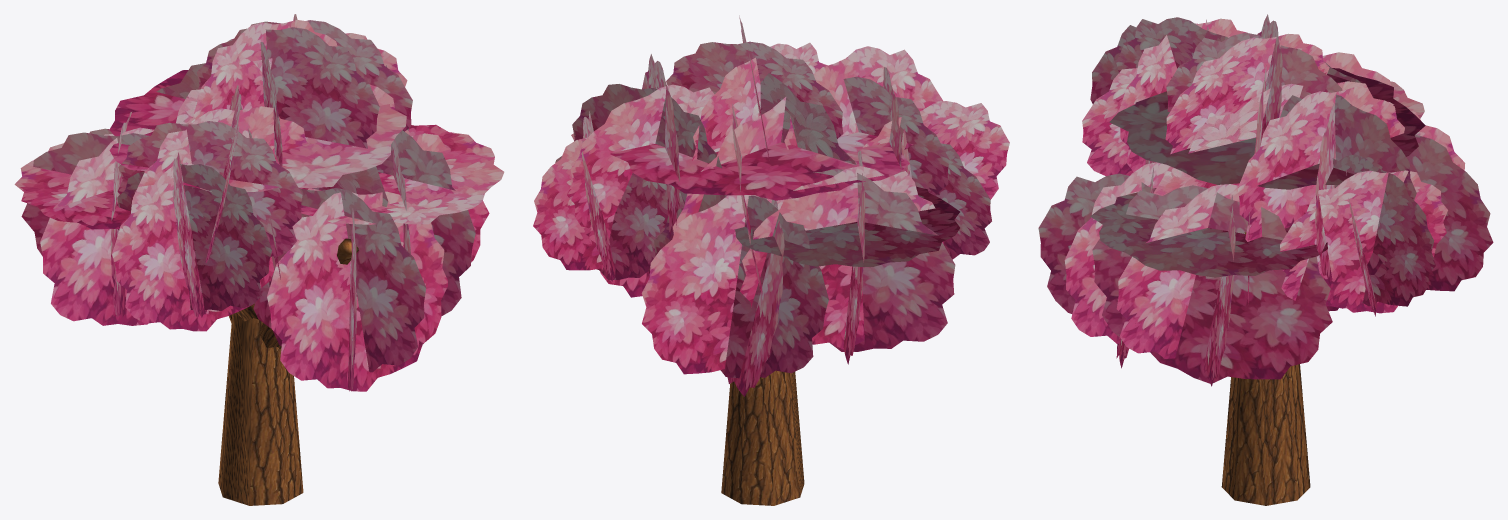
The model's file is ptree_blossom_round.glb.
The picture shows the model from 3 angles, left to right: view 1: azimuth 30°, elevation 25°; view 2: azimuth 150°, elevation 25°; view 3: azimuth 270°, elevation 25°; orthographic projection. The views are drawn at different scales.
Parts seen in each view (by area): view 1: leaf, woodBark; view 2: leaf, woodBark; view 3: leaf, woodBark.
Boxes of the visible parts, bbox=[...] form: leaf: bbox=[14, 14, 504, 391]; woodBark: bbox=[218, 238, 358, 505]; leaf: bbox=[533, 15, 1009, 396]; woodBark: bbox=[721, 370, 804, 505]; leaf: bbox=[1038, 14, 1493, 386]; woodBark: bbox=[1221, 232, 1310, 505].
Bounding box in the file's own units: 1.1 × 1.15 × 1.03.
2 materials, 2 textured.
